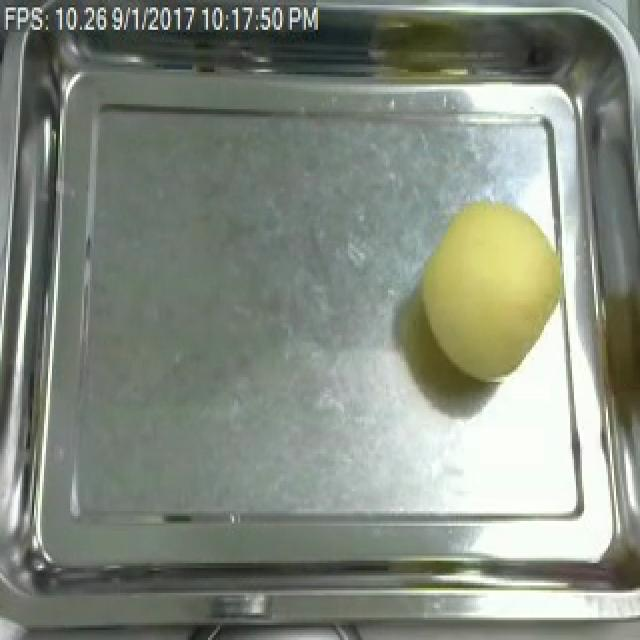Fruit: (408, 191, 570, 389)
